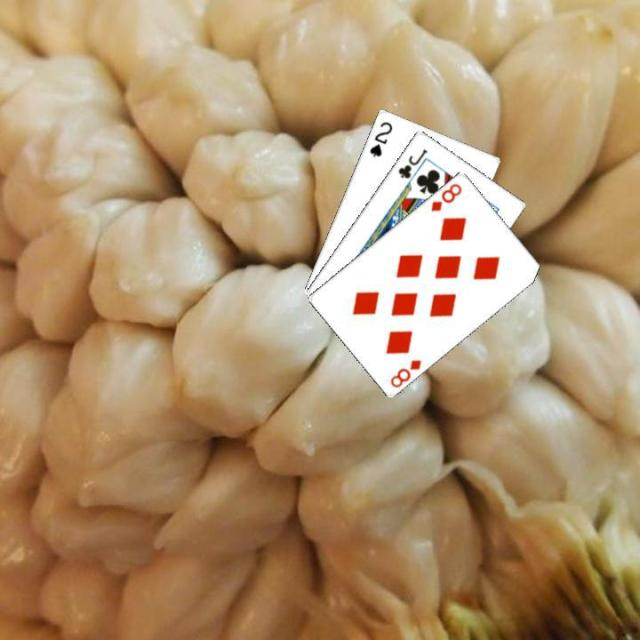2S: (365, 118, 394, 158)
8D: (427, 179, 464, 213), (386, 356, 423, 390)
JC: (394, 144, 429, 180)
